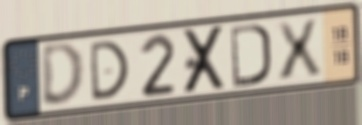2: (138, 31, 178, 99)
D: (39, 40, 87, 109), (228, 21, 274, 90), (88, 38, 132, 104)
X: (272, 16, 325, 84), (181, 23, 229, 98)
